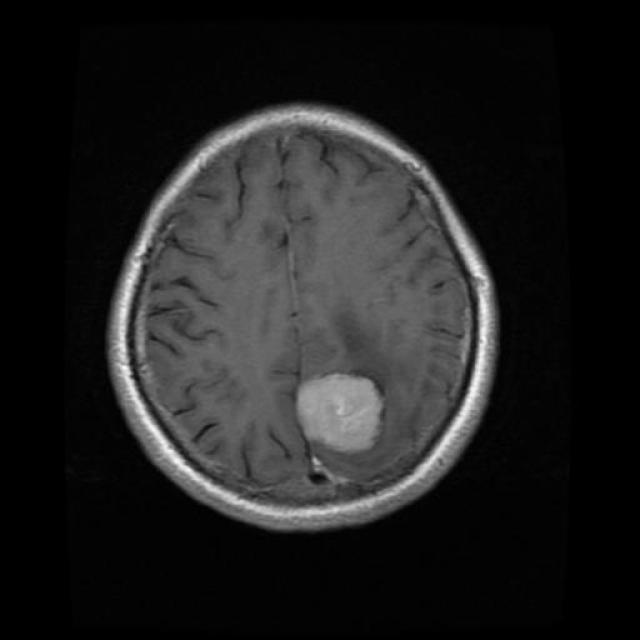meningioma: (298, 372, 384, 456)
